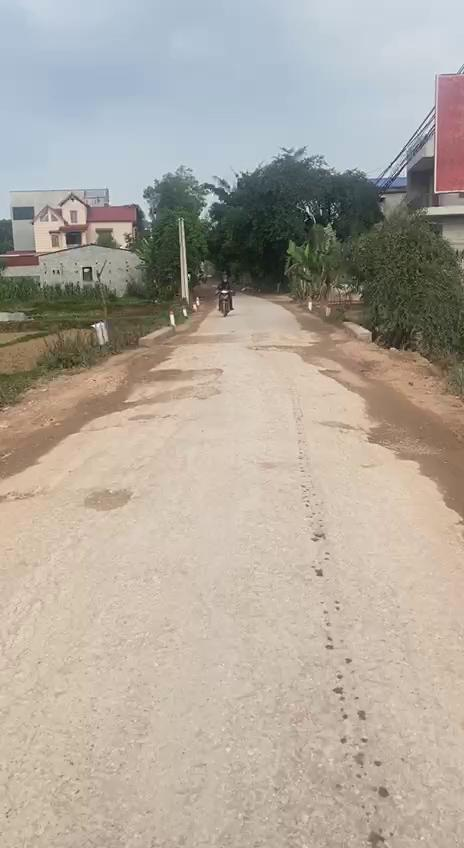pothole: (88, 479, 140, 512)
